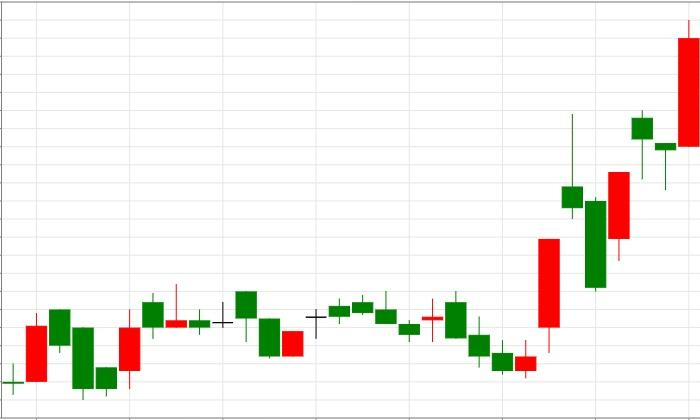shooting_star_fall: (491, 113, 583, 378)
